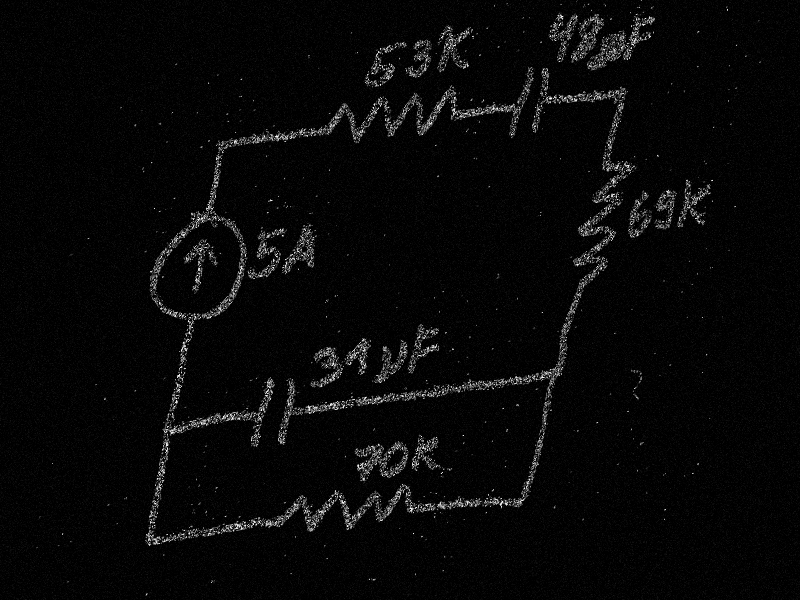0: (378, 440, 411, 480)
1: (342, 333, 375, 381)
3: (305, 343, 347, 391), (404, 36, 434, 81)
4: (542, 7, 578, 66)
5: (247, 224, 287, 282), (363, 41, 408, 89)
6: (624, 189, 657, 242)
7: (346, 440, 385, 488)
8: (571, 15, 604, 62)
9: (651, 187, 679, 234)
A: (282, 222, 320, 275)
F: (407, 319, 443, 377), (625, 11, 656, 62)
k: (433, 17, 477, 77), (675, 172, 714, 234), (410, 428, 443, 476)
u: (373, 338, 410, 384), (596, 31, 626, 69)
